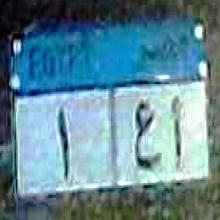1: (52, 106, 74, 182)
ain: (129, 90, 163, 179)
alif: (168, 90, 184, 176)
